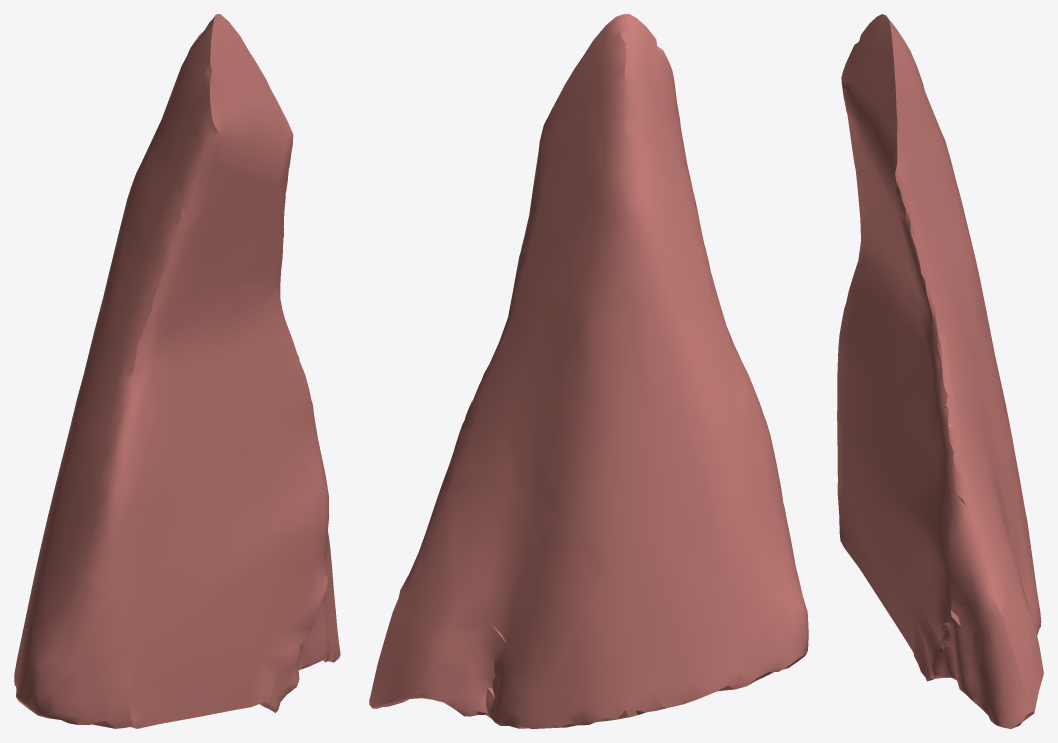
Rendered from fma326751-r_mm1867.glb.
The picture shows the model from 3 angles, left to right: view 1: azimuth 30°, elevation 25°; view 2: azimuth 150°, elevation 25°; view 3: azimuth 270°, elevation 25°; orthographic projection. The views are drawn at different scales.
Parts seen in each view (by area): view 1: FMA326751-R_MM1867; view 2: FMA326751-R_MM1867; view 3: FMA326751-R_MM1867.
Part boxes in pixels (left/top/right/bottom): FMA326751-R_MM1867: left=14, top=14, right=340, bottom=728; FMA326751-R_MM1867: left=369, top=14, right=808, bottom=728; FMA326751-R_MM1867: left=837, top=14, right=1043, bottom=728.
Size of the model in its own units: 0.0165 by 0.0301 by 0.00891.
